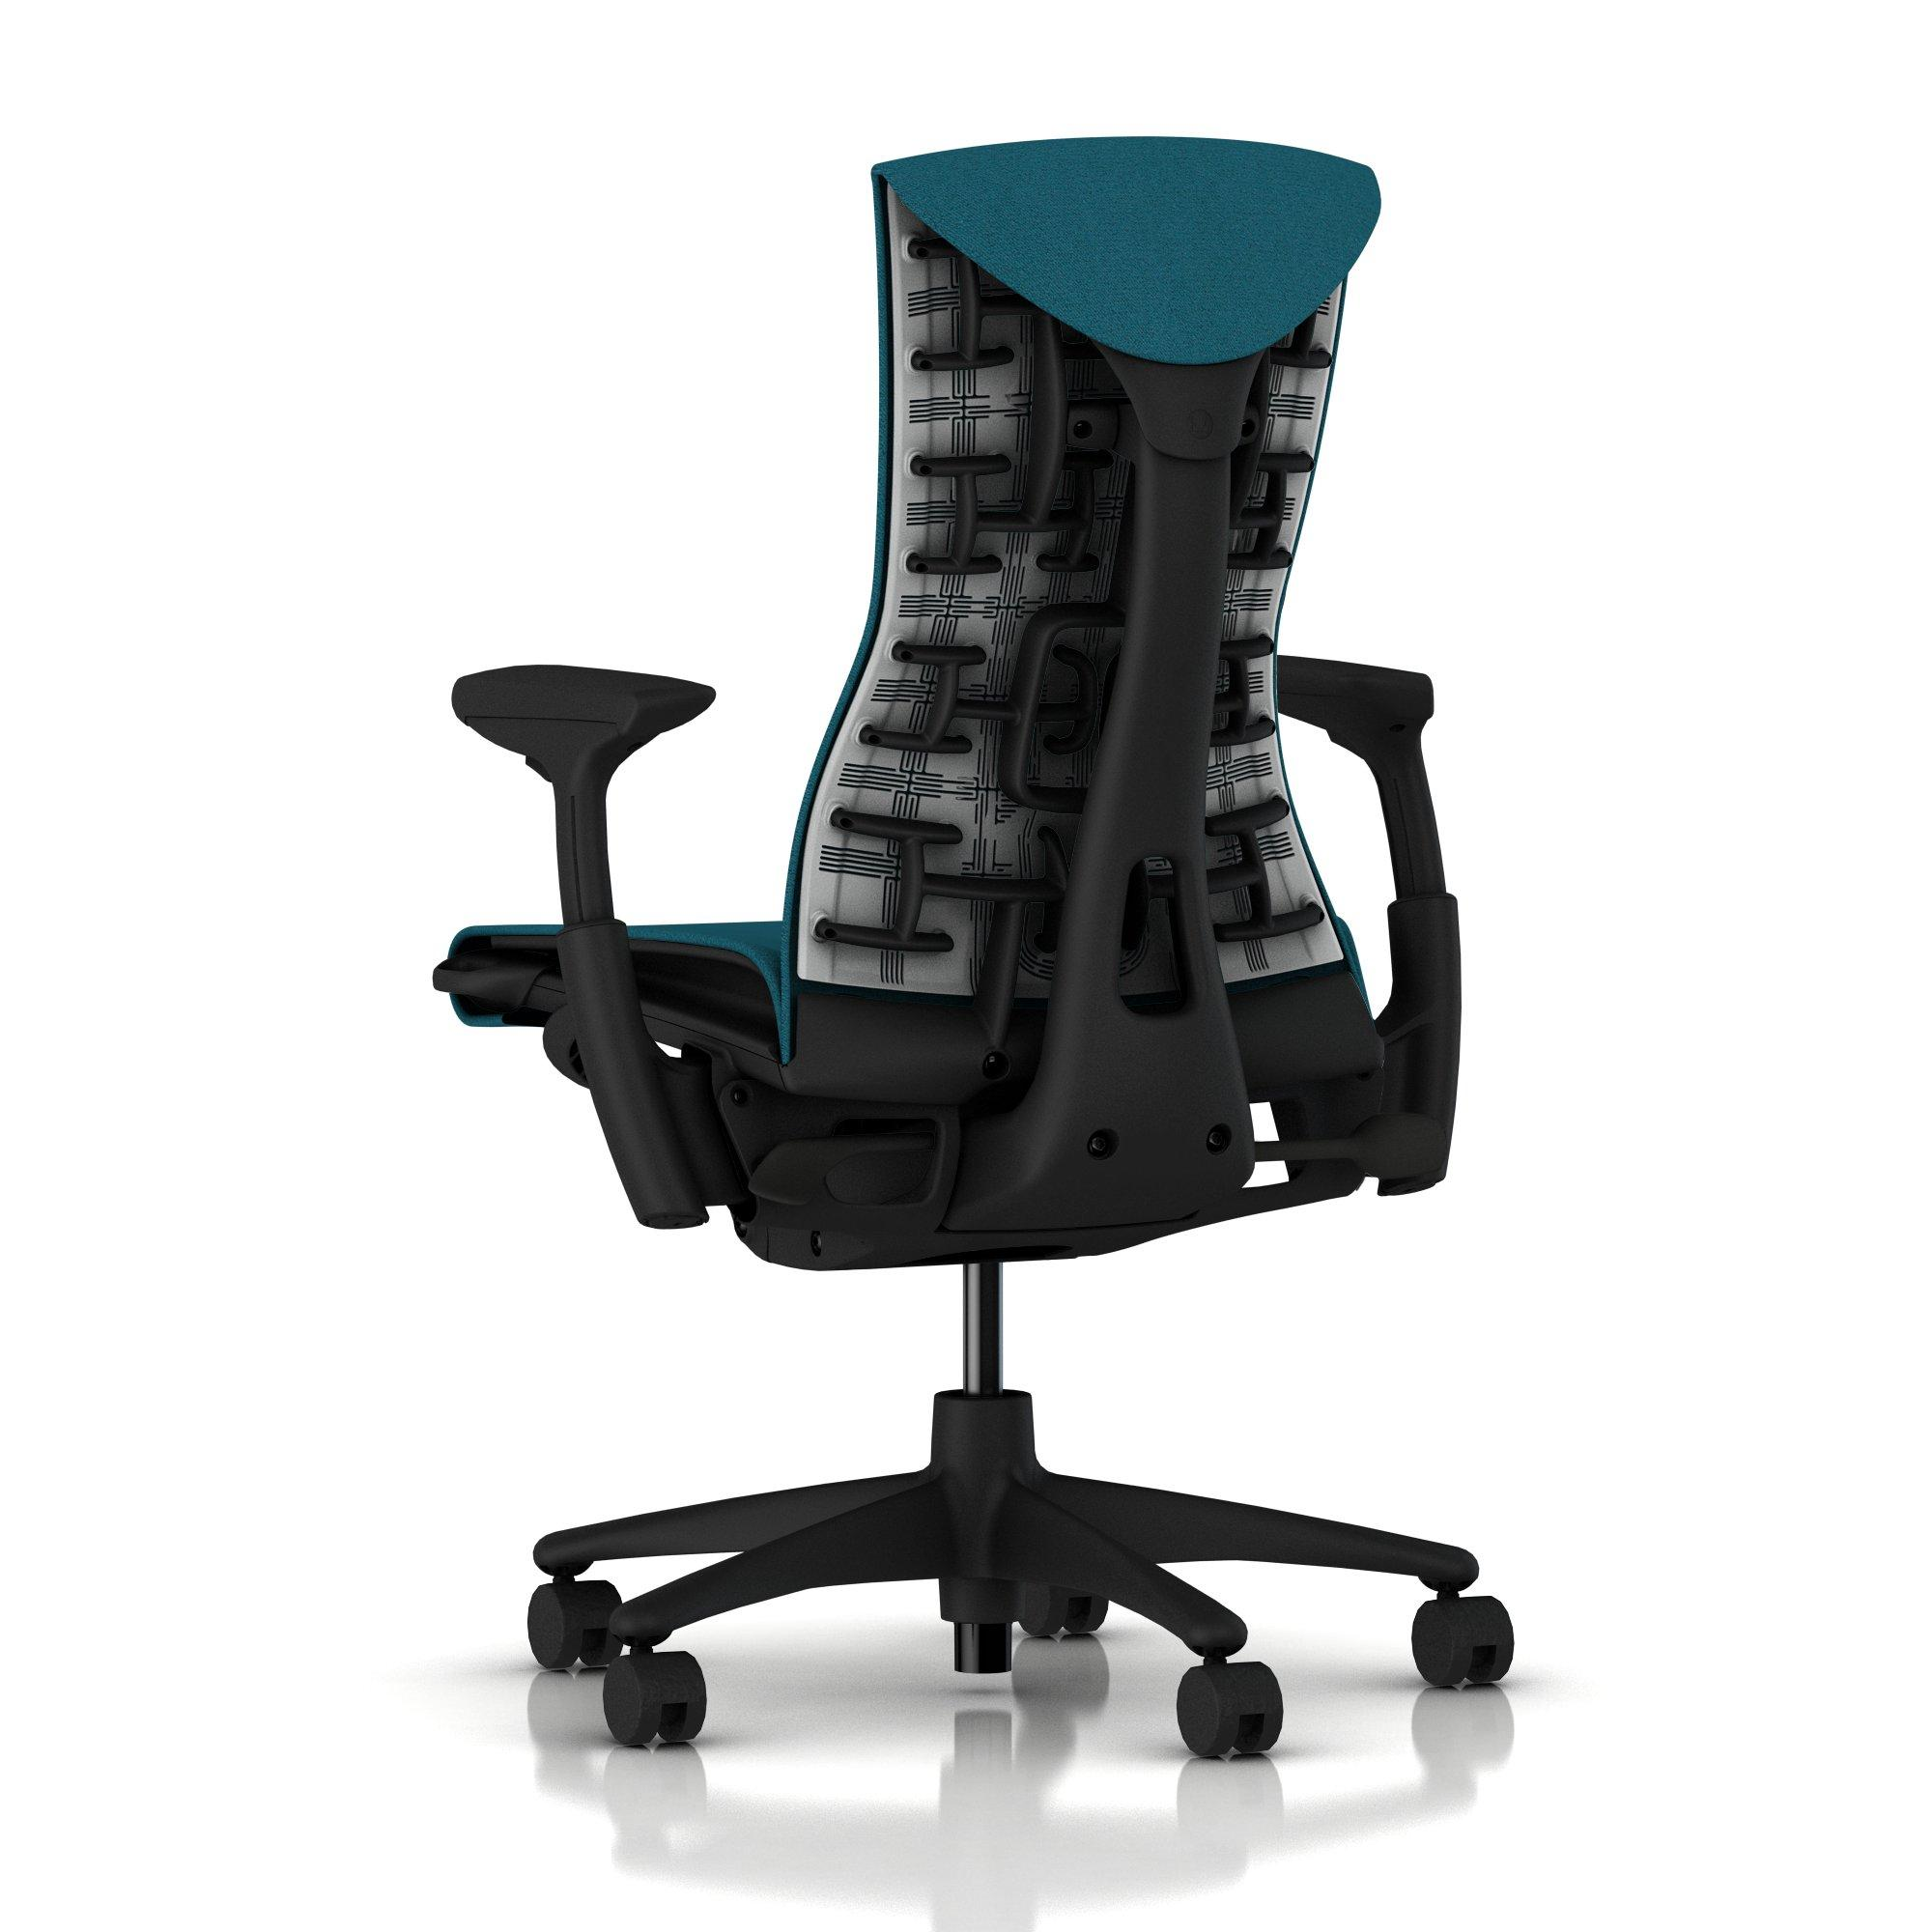chairs: (425, 131, 1537, 1769)
